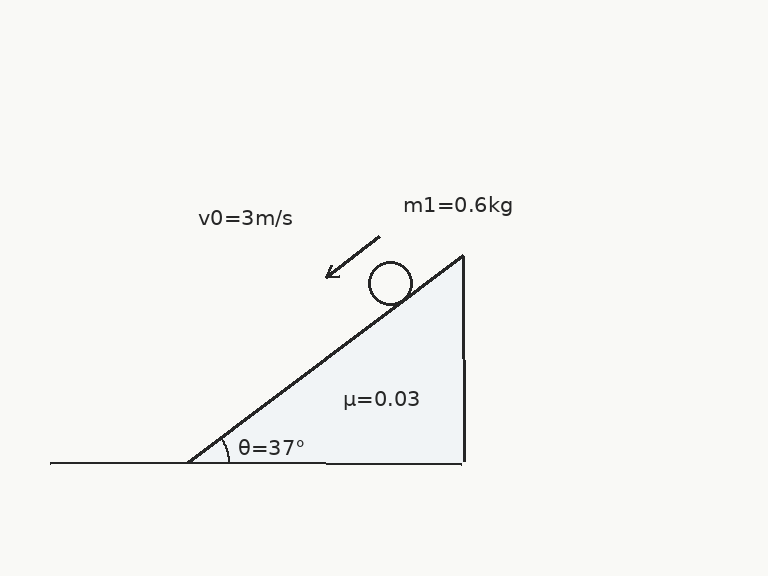ball: (366, 259, 414, 307)
ramp: (187, 254, 465, 464)
